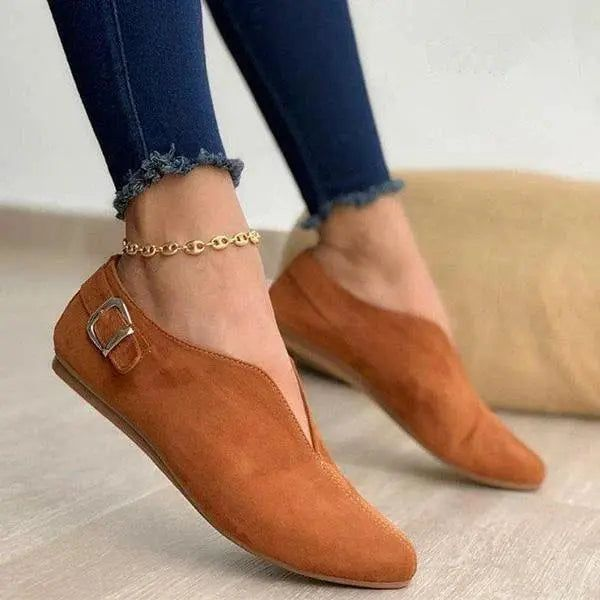gamuza: (53, 253, 547, 583)
